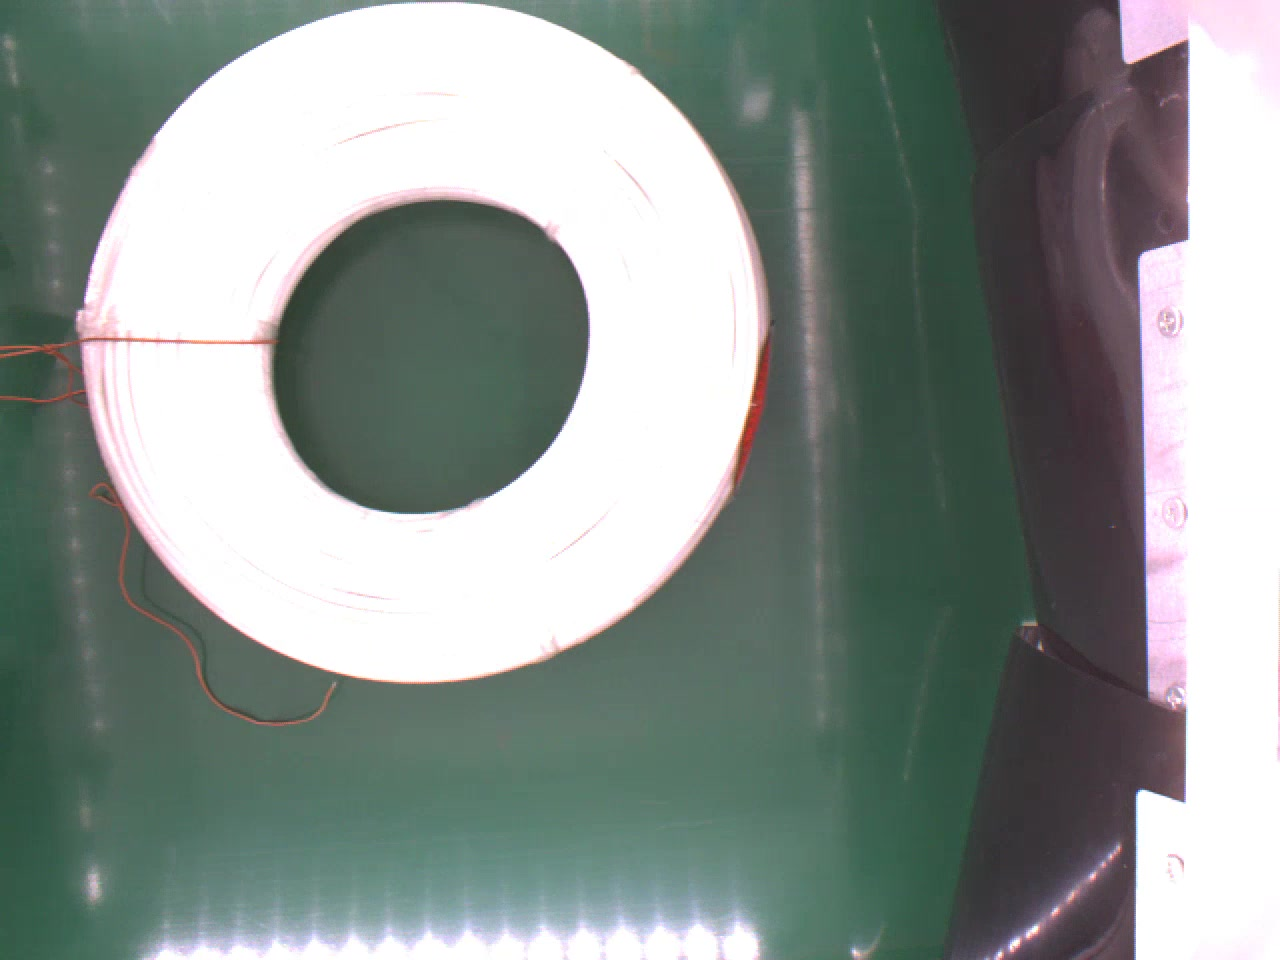white: (80, 1, 769, 680)
